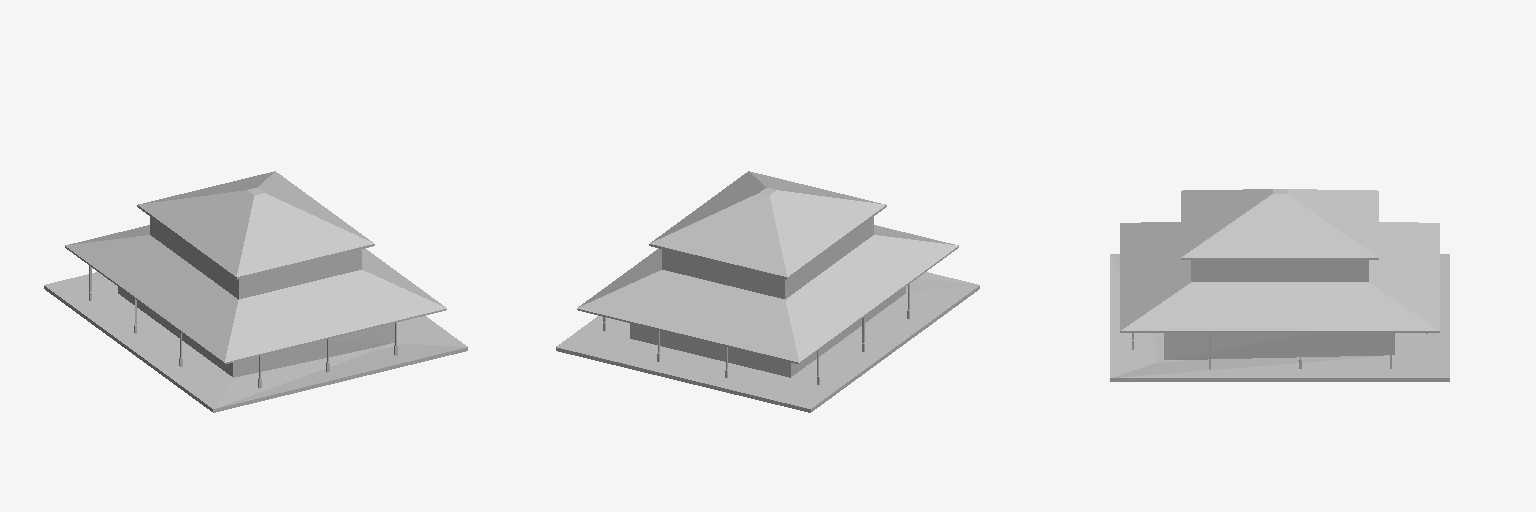
Rendered from house2.obj.
3 views of the same model, side by side, from view 1: azimuth 30°, elevation 25°; view 2: azimuth 150°, elevation 25°; view 3: azimuth 270°, elevation 25° (orthographic).
Visible parts, largest first — view 1: Temple_2; view 2: Temple_2; view 3: Temple_2.
Boxes of the visible parts, x1=… form: Temple_2: x1=44, y1=171, x2=467, y2=412; Temple_2: x1=556, y1=171, x2=979, y2=412; Temple_2: x1=1110, y1=189, x2=1449, y2=381.
Bounding box in the file's own units: 711 × 343 × 820.